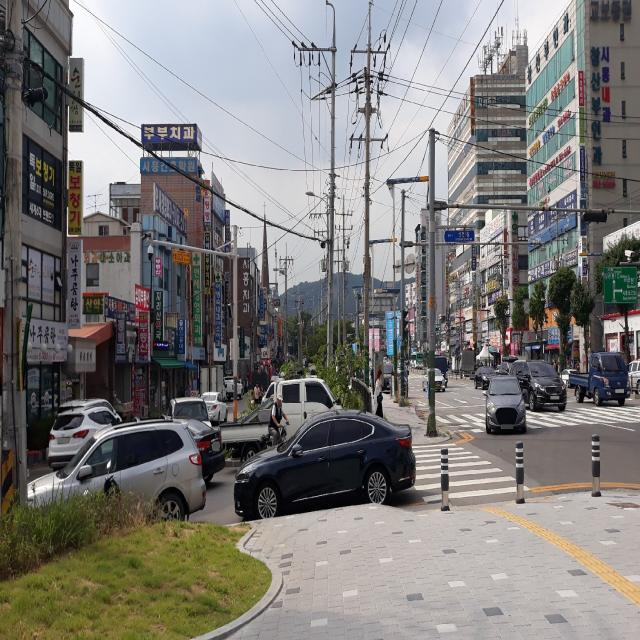횡단보도: (412, 443, 531, 503), (443, 409, 639, 428)
